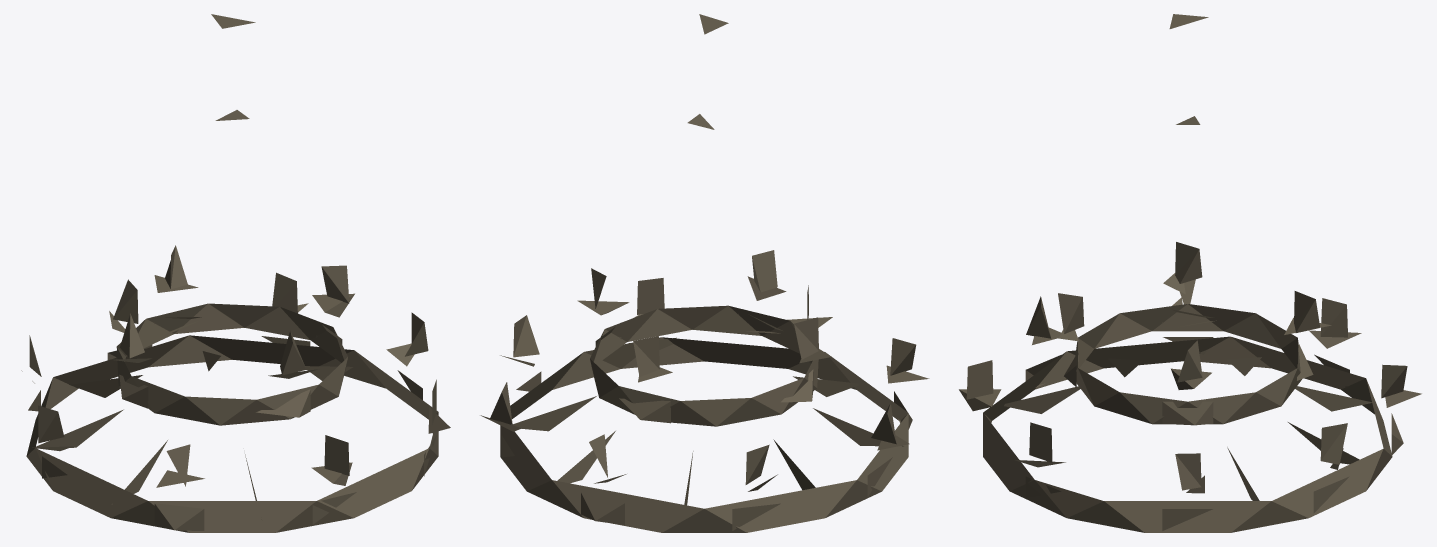
The model's file is chandelier-ring.lod1.glb.
The picture shows the model from 3 angles, left to right: view 1: azimuth 30°, elevation 25°; view 2: azimuth 150°, elevation 25°; view 3: azimuth 270°, elevation 25°; orthographic projection.
Parts seen in each view (by area): view 1: group42_fire_0; view 2: group42_fire_0; view 3: group42_fire_0.
Boxes of the visible parts, <box> form: group42_fire_0: <box>21,14,450,532</box>; group42_fire_0: <box>480,14,929,532</box>; group42_fire_0: <box>959,14,1421,532</box>.
Size of the model in its own units: 1.78 by 1.8 by 1.78.
